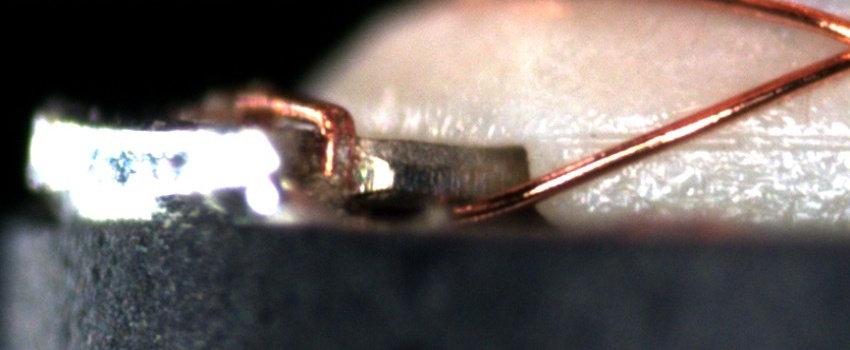DL: (530, 107, 850, 171)
TE: (231, 79, 360, 192)
